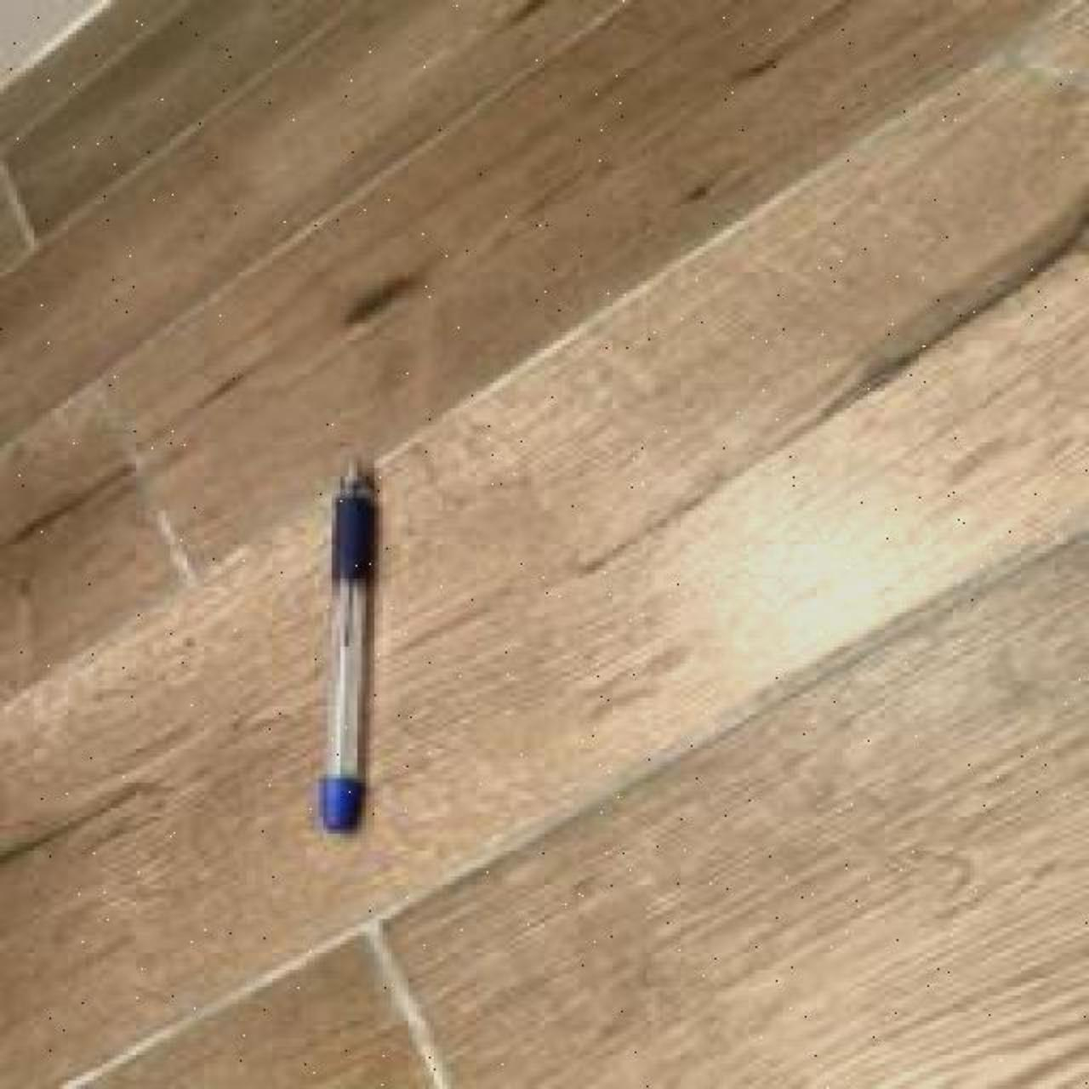pen: (315, 451, 374, 834)
